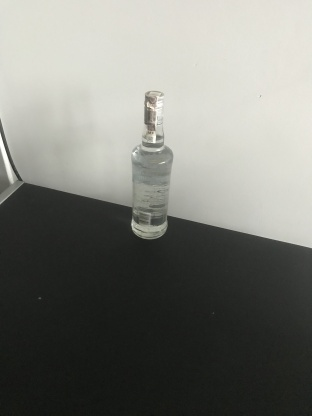nakretka: (142, 88, 166, 126)
